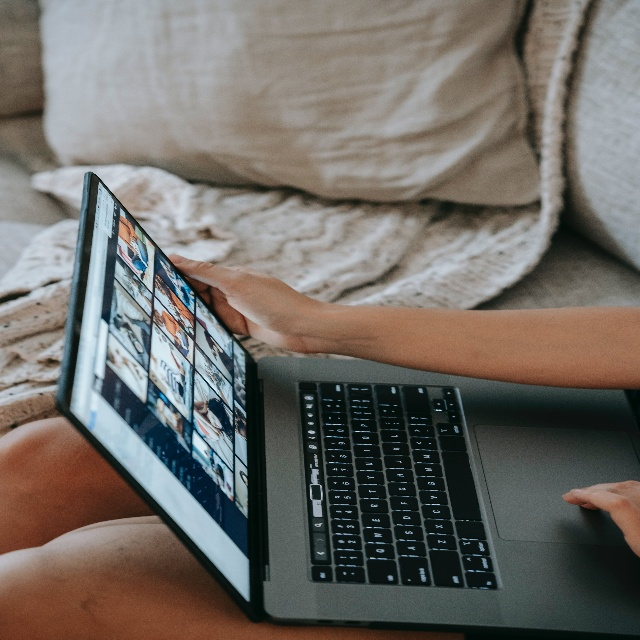Sin_guantes: (168, 252, 309, 354), (561, 479, 640, 558)
